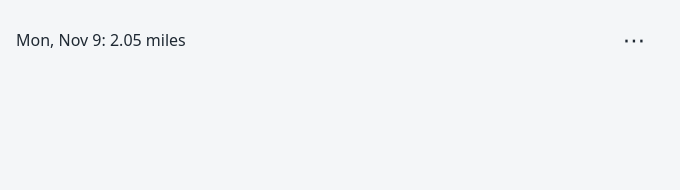
Test: RunList › closes the menu when you click elsewhere
Click the button named "Actions for Mon, Nov 9 run" at (634,40), box [612,18,656,62]
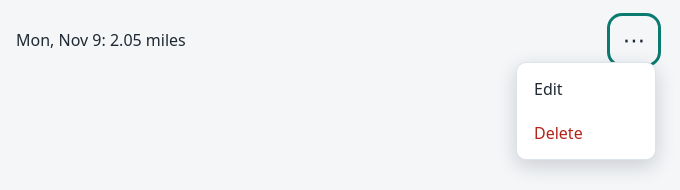
Click the text "Mon, Nov 9: 2.05 miles" at (101,40), box [16,29,186,51]
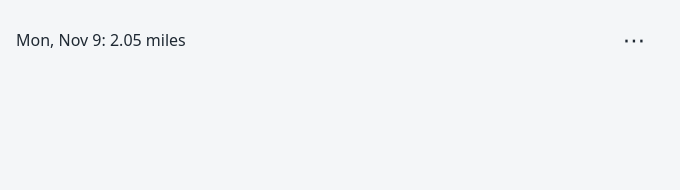
expect the menu item is gone: met
